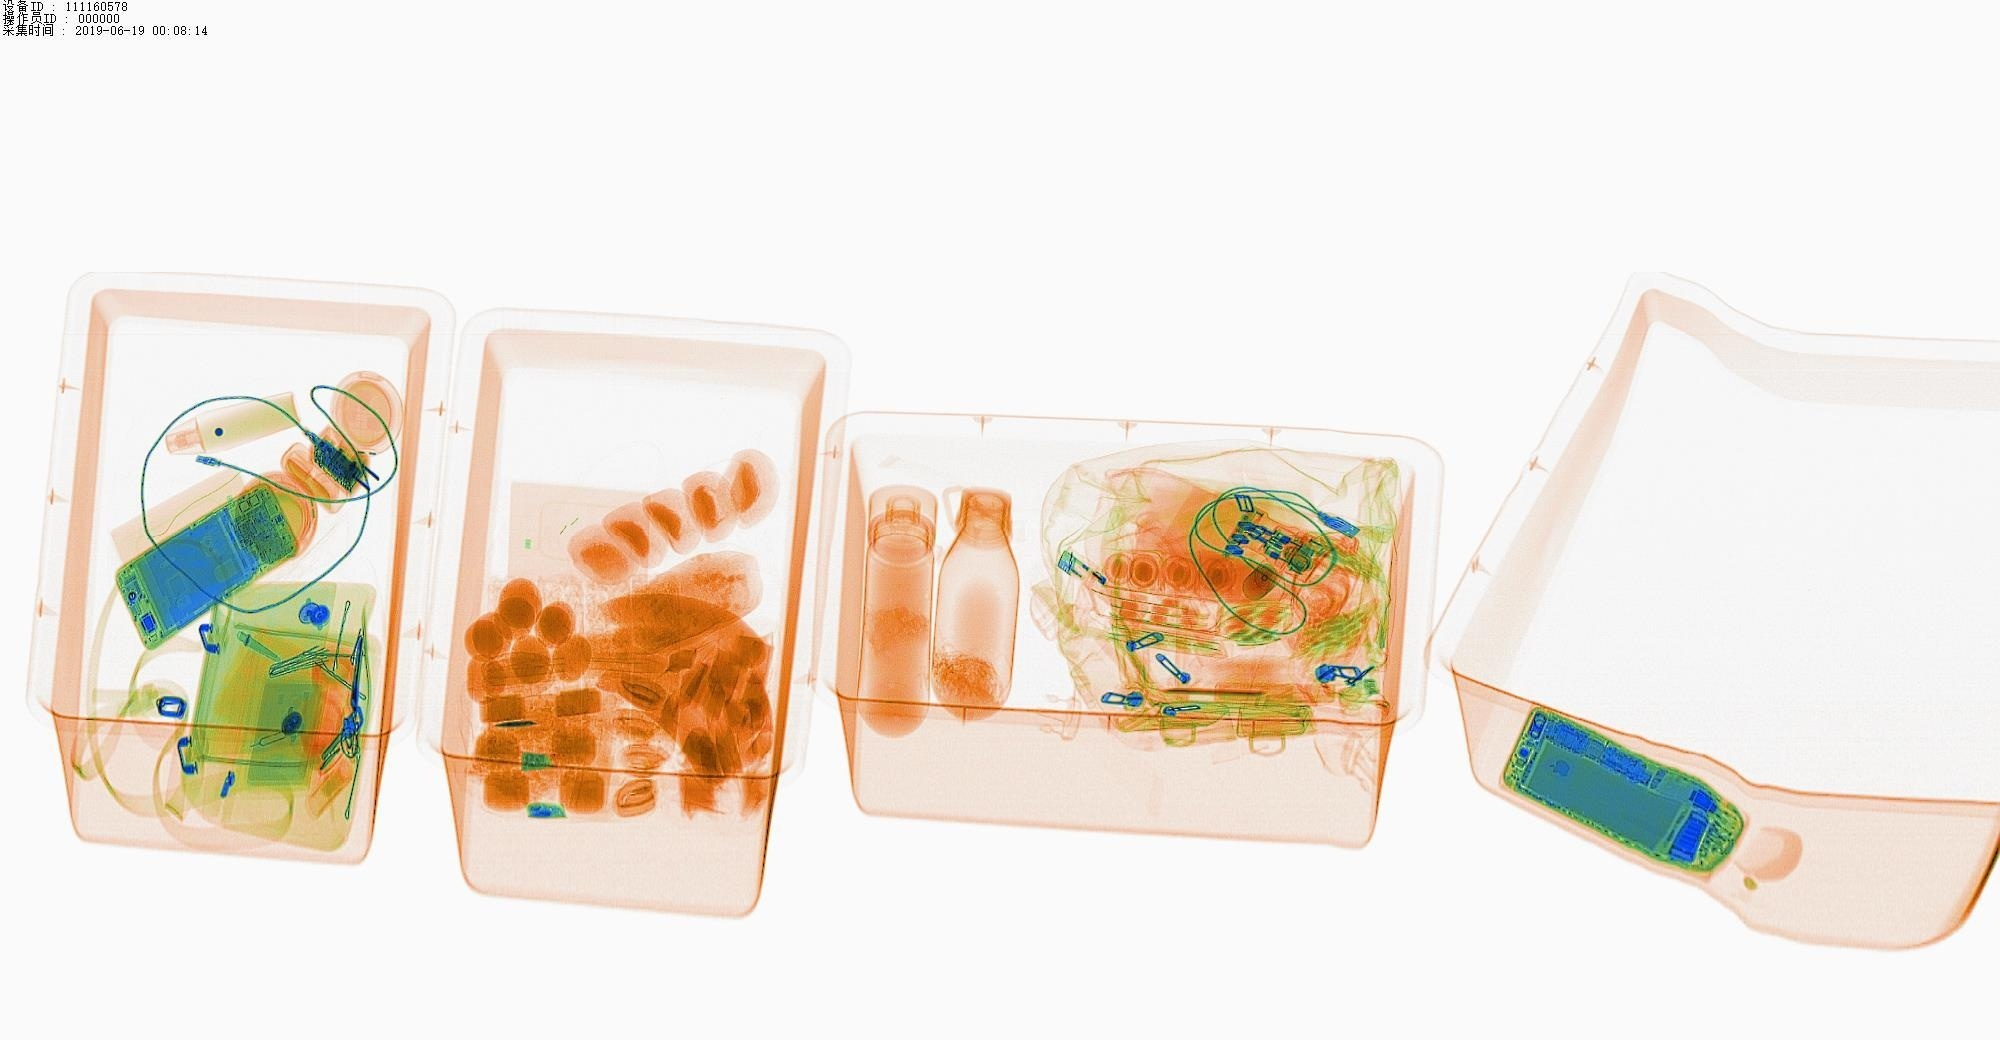NonmetallicFire: (1044, 533, 1167, 654)
